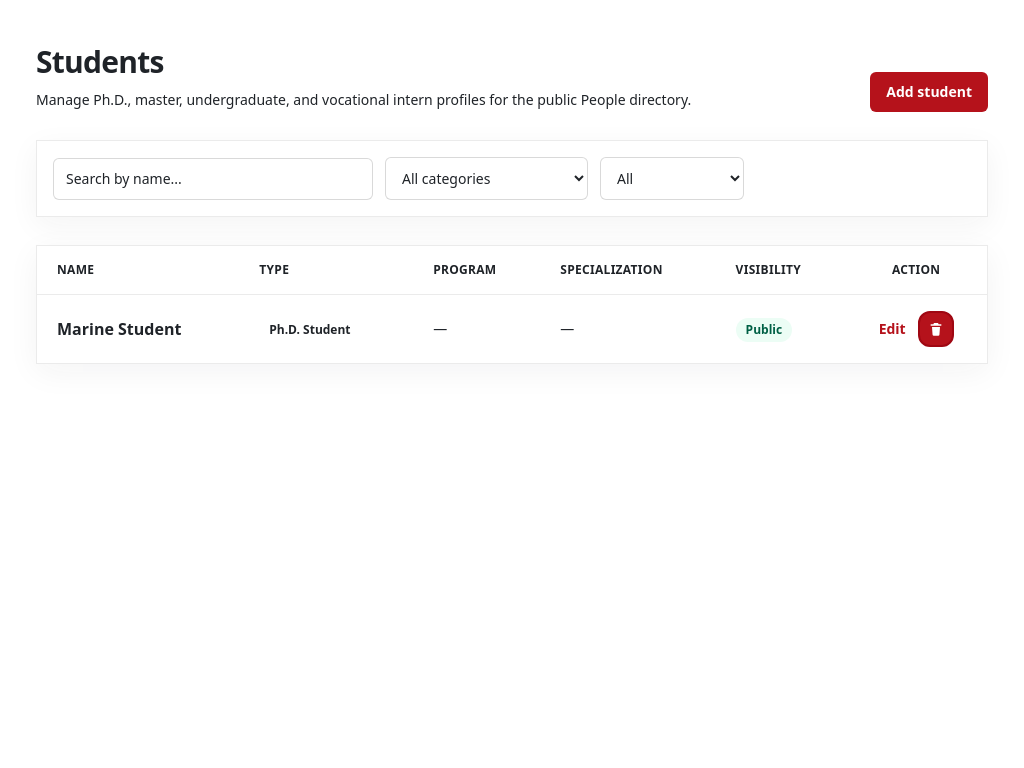
Admin People list deletion › keeps a Student row when deletion fails
expect the link "Marine Student" is shown: met, box left=57, top=318, right=181, bottom=340
Click the button named "Delete": (936, 329) left=918, top=311, right=954, bottom=347
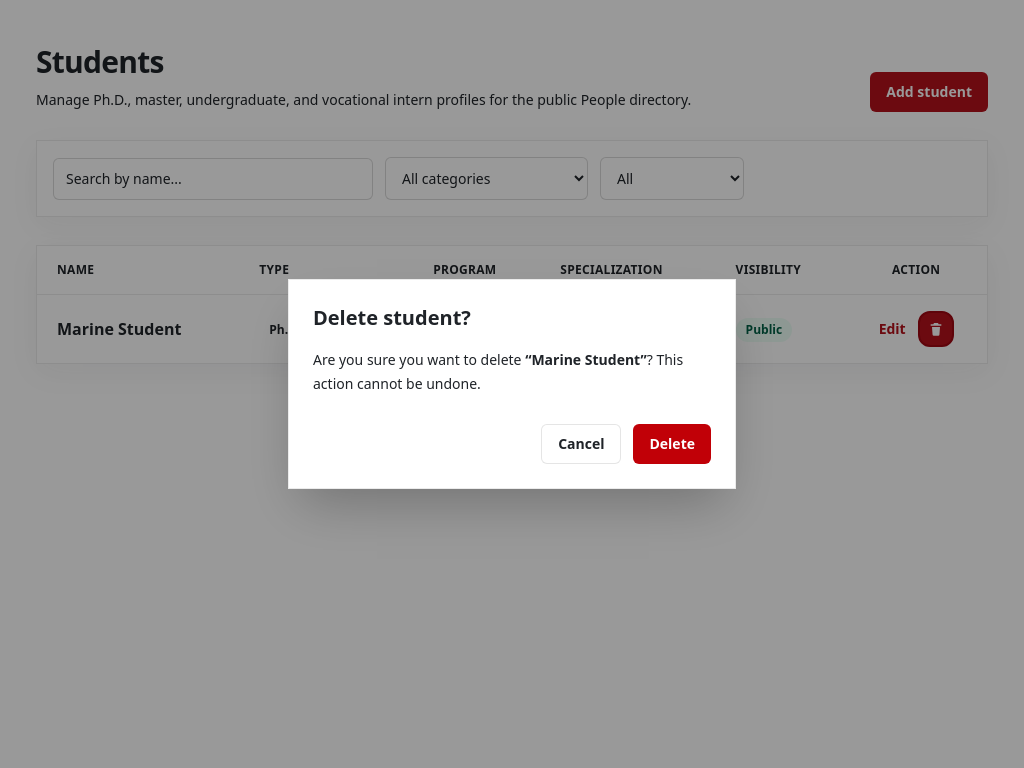
Click the button "Delete": (672, 444) left=634, top=424, right=711, bottom=464
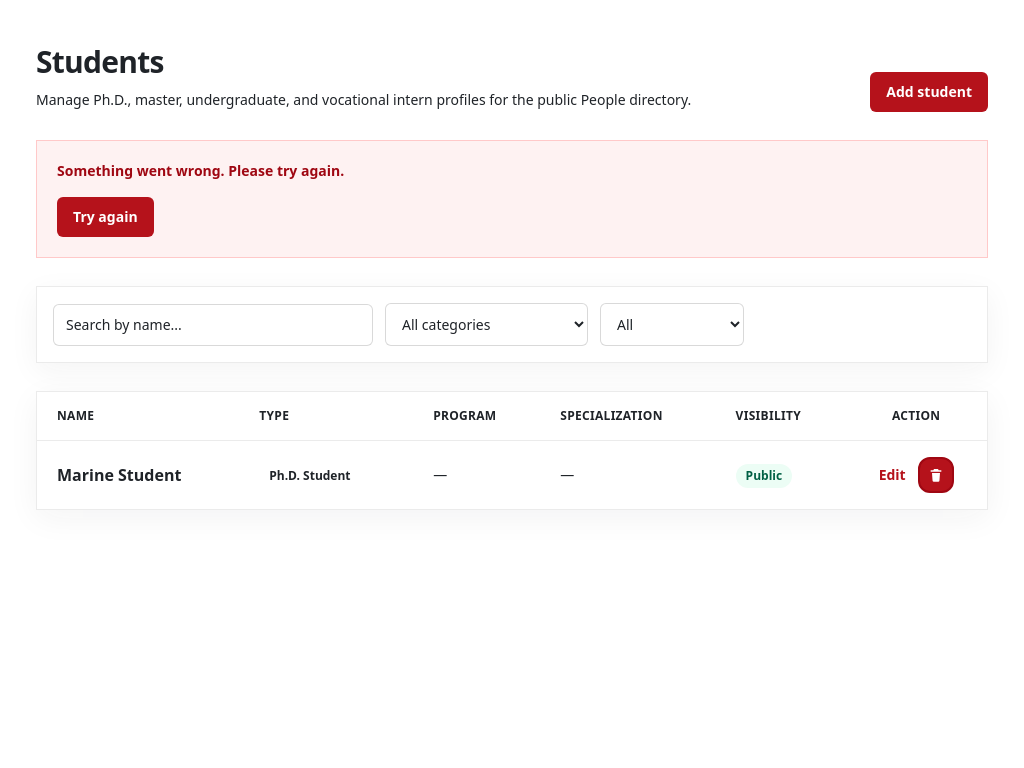
expect the link "Marine Student" is shown: met, box left=57, top=464, right=181, bottom=486
expect the message "Something went wrong. Please try again. Try again" is shown: met, box left=36, top=140, right=988, bottom=258
